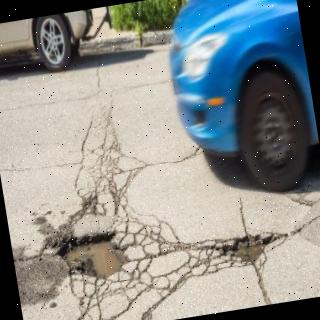pothole: (58, 233, 128, 280), (217, 234, 283, 264)
